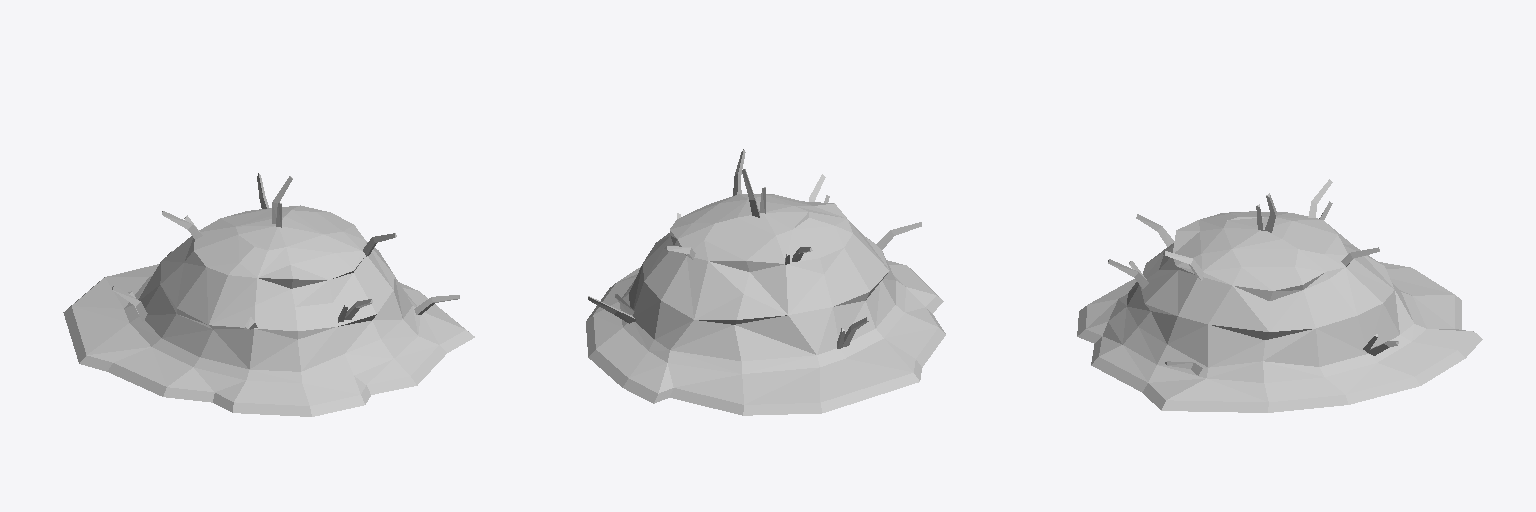
File: SM_Prop_Hay_Pile_01_Green.obj
The picture shows the model from 3 angles: view 1: azimuth 30°, elevation 25°; view 2: azimuth 150°, elevation 25°; view 3: azimuth 270°, elevation 25°; orthographic projection.
Size of the model in its own units: 247 by 110 by 264.